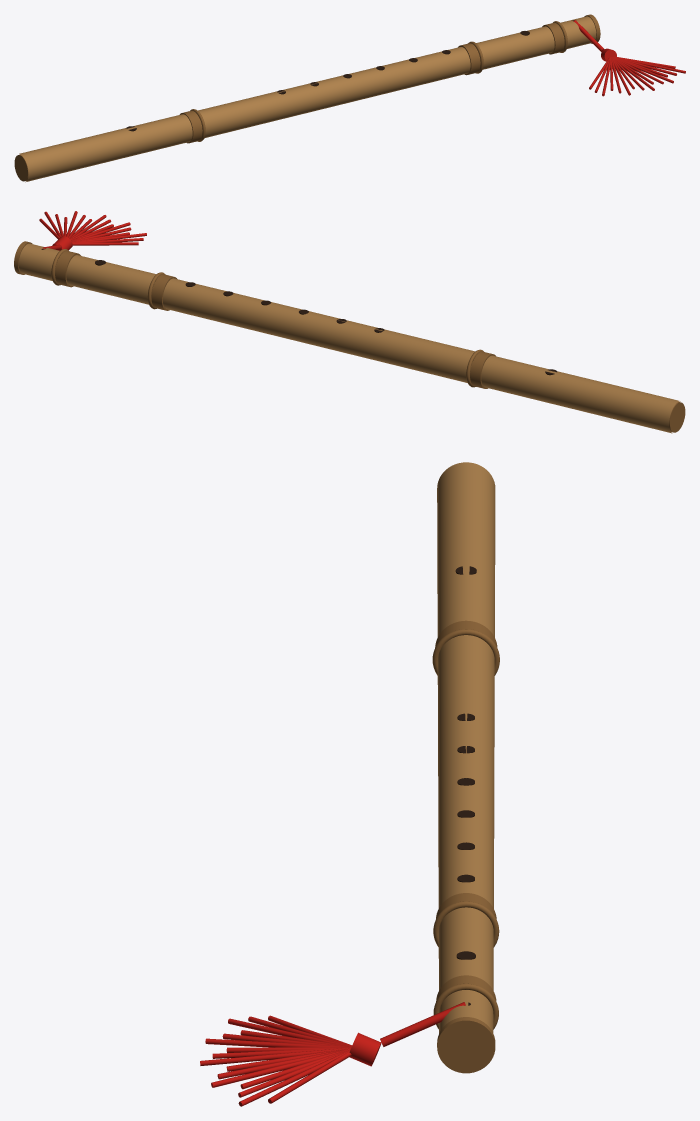
The model's file is sao-tre.glb.
The picture shows the model from 3 angles, top to bottom: view 1: azimuth 30°, elevation 25°; view 2: azimuth 150°, elevation 25°; view 3: azimuth 270°, elevation 25°; orthographic projection. The views are drawn at different scales.
Parts seen in each view (by area): view 1: tube, tassel, sao_tre, rim_foot; view 2: tube, tassel, sao_tre, rim_foot; view 3: tube, tassel, rim_head, sao_tre.
Boxes of the visible parts, bbox=[...] form: tube: bbox=[19, 16, 596, 182]; tassel: bbox=[589, 56, 685, 96]; sao_tre: bbox=[179, 22, 564, 143]; rim_foot: bbox=[14, 154, 28, 181]; tube: bbox=[18, 243, 680, 433]; tassel: bbox=[39, 211, 146, 245]; sao_tre: bbox=[55, 251, 495, 388]; rim_foot: bbox=[669, 402, 685, 432]; tube: bbox=[437, 462, 495, 1033]; tassel: bbox=[200, 1015, 351, 1106]; rim_head: bbox=[437, 1017, 495, 1073]; sao_tre: bbox=[435, 620, 497, 1001].
Size of the model in its own units: 0.6652 by 0.0319 by 0.142.
